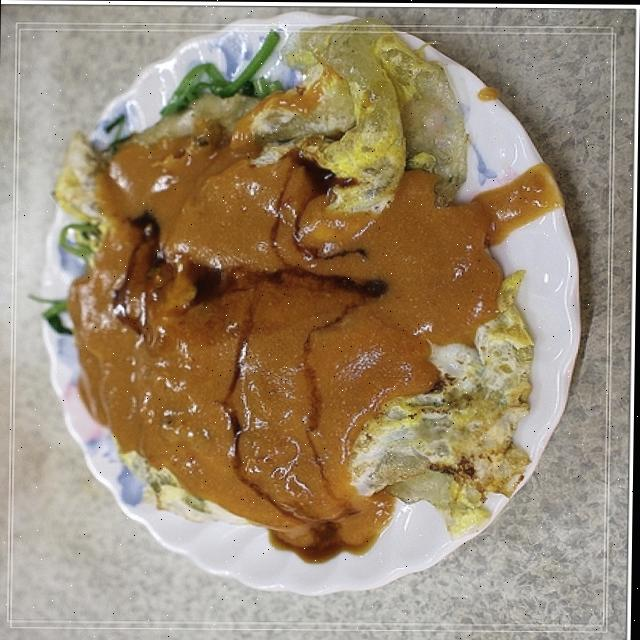熟制海鲜: (14, 18, 607, 617)
